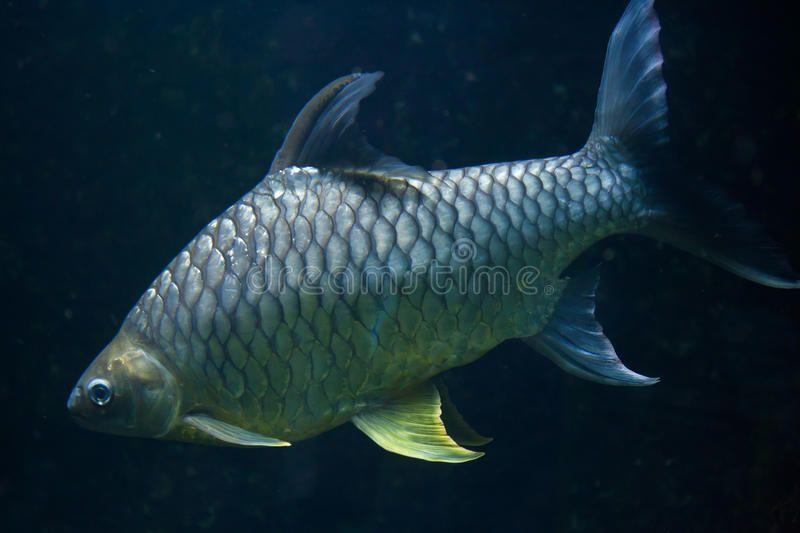Silver Barb: (75, 1, 786, 471)
